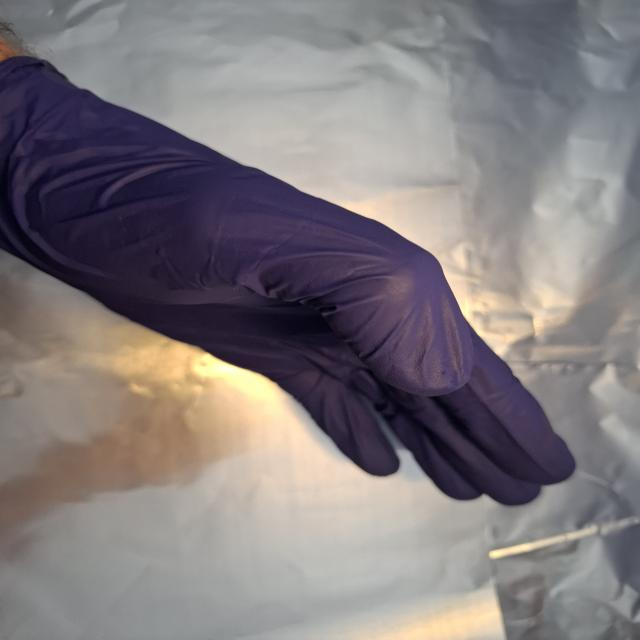glove_on: (0, 52, 582, 508)
